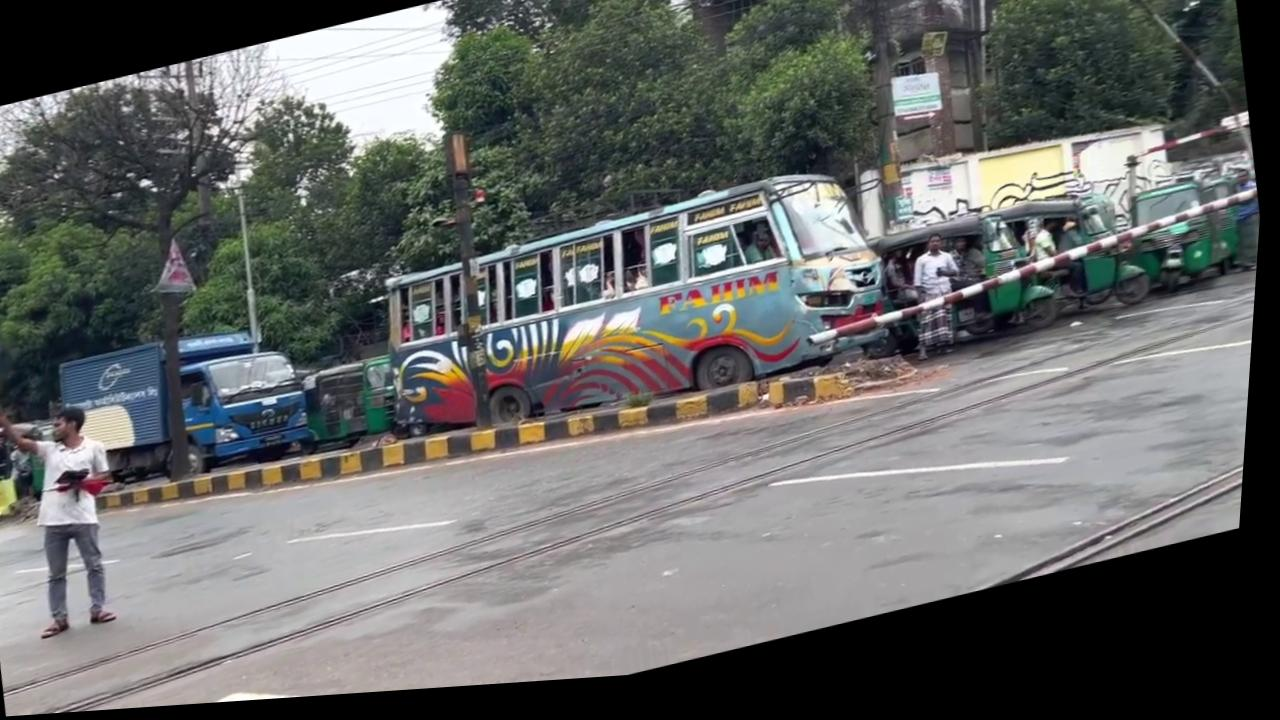Car: (93, 305, 943, 592)
Fence: (0, 383, 149, 648)
Garbage: (428, 131, 521, 441), (228, 192, 275, 358)
Motorcycle: (0, 318, 1260, 718)
Railroad-crossing: (0, 37, 357, 521), (933, 0, 1261, 204)
Rickshaw: (364, 159, 913, 476), (52, 307, 330, 510), (300, 355, 410, 460), (0, 415, 62, 525)
